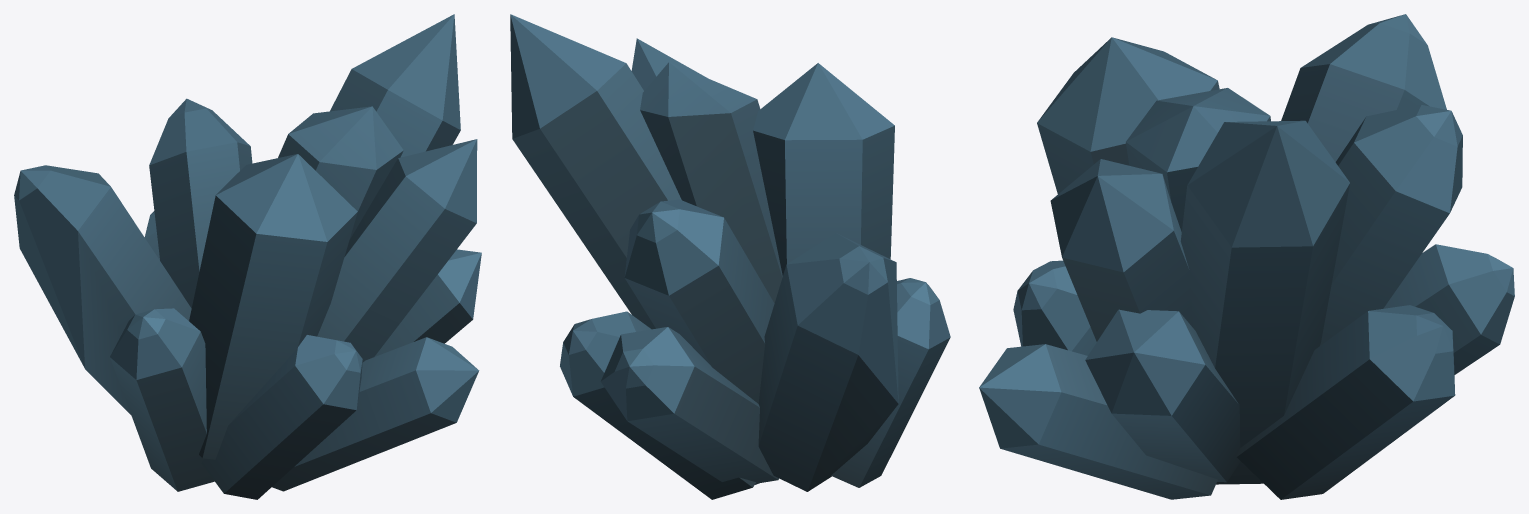
The model's file is geology-crystals-calcitecluster_v2.fbx.
The picture shows the model from 3 angles, left to right: view 1: azimuth 30°, elevation 25°; view 2: azimuth 150°, elevation 25°; view 3: azimuth 270°, elevation 25°; orthographic projection. The views are drawn at different scales.
Parts seen in each view (by area): view 1: CalciteCluster_v2; view 2: CalciteCluster_v2; view 3: CalciteCluster_v2.
Boxes of the visible parts, left/top/right/bottom form: CalciteCluster_v2: left=14, top=14, right=481, bottom=499; CalciteCluster_v2: left=510, top=14, right=950, bottom=499; CalciteCluster_v2: left=979, top=14, right=1514, bottom=499.
Size of the model in its own units: 9.79 by 9.42 by 9.03.
